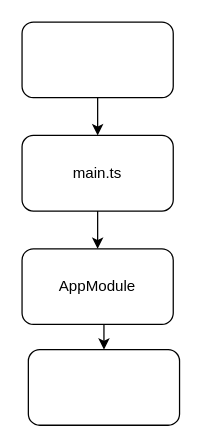
Image size: 202x447. Some labels were removed from this diagram. Here are the shapes that lost their labels. From the top down, the centre of each, then its label:
point 97,59: angular.json
point 103,386: AppComponent
